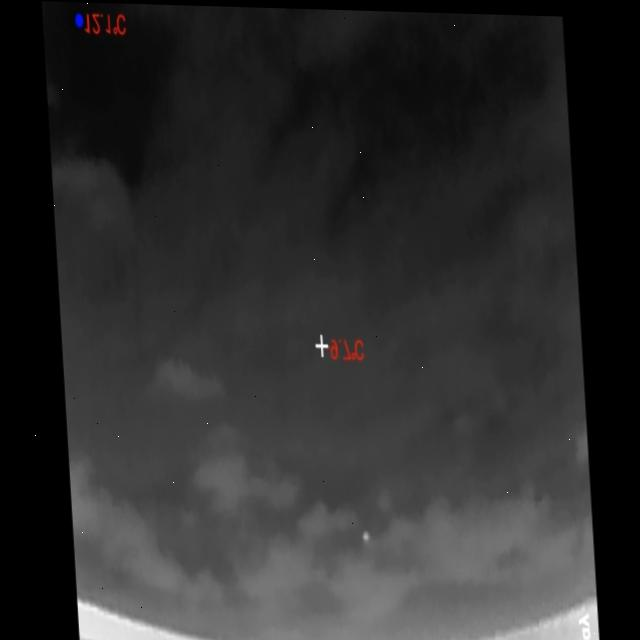drone: (355, 526, 363, 543)
